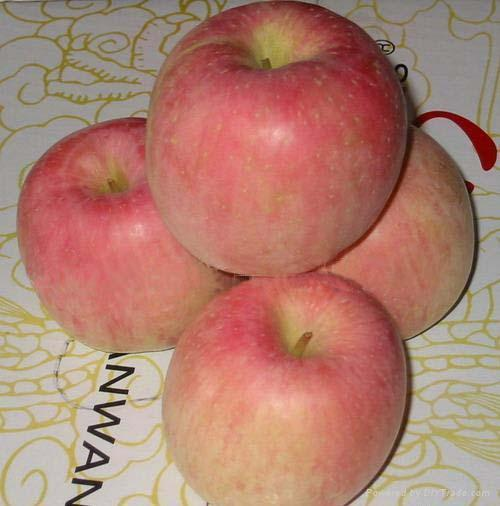apple: (143, 1, 409, 277), (159, 272, 411, 506), (16, 118, 228, 350), (310, 123, 475, 342)
